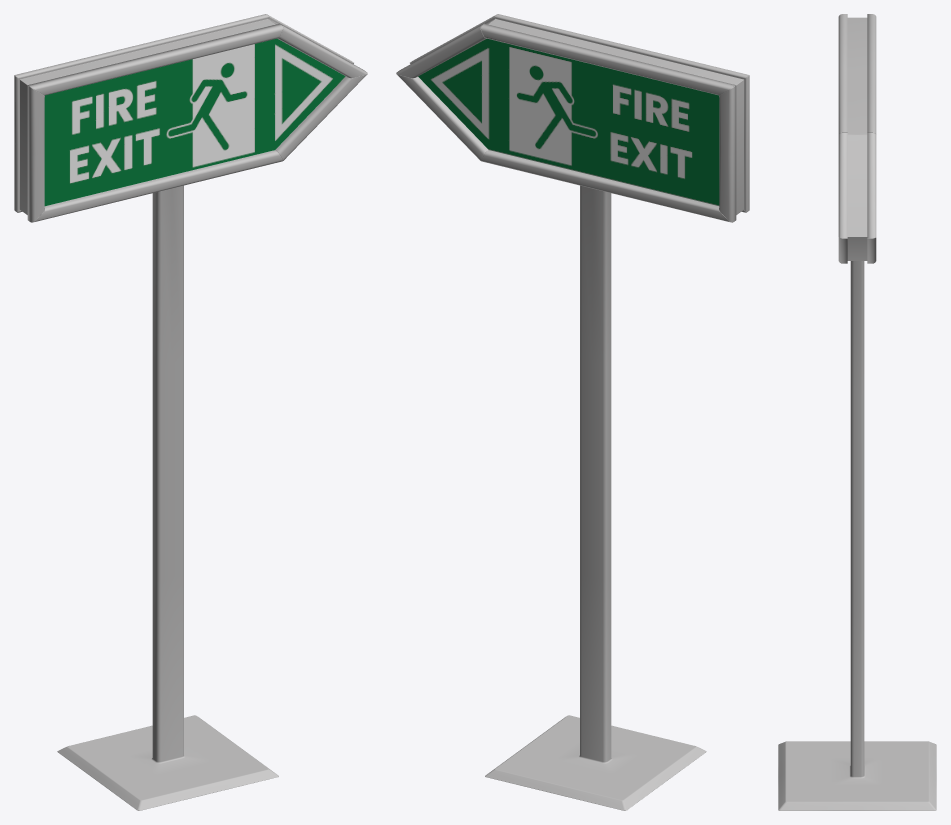
File: Floor_Stand.fbx
The picture shows the model from 3 angles, left to right: view 1: azimuth 30°, elevation 25°; view 2: azimuth 150°, elevation 25°; view 3: azimuth 270°, elevation 25°; orthographic projection. The views are drawn at different scales.
Visible parts, largest first — view 1: Floor_Stand; view 2: Floor_Stand; view 3: Floor_Stand.
Part boxes in pixels (bbox=[...]): Floor_Stand: bbox=[14, 14, 367, 810]; Floor_Stand: bbox=[396, 14, 749, 810]; Floor_Stand: bbox=[778, 14, 936, 810].
Bounding box in the file's own units: 55.96 × 114 × 23.52.
